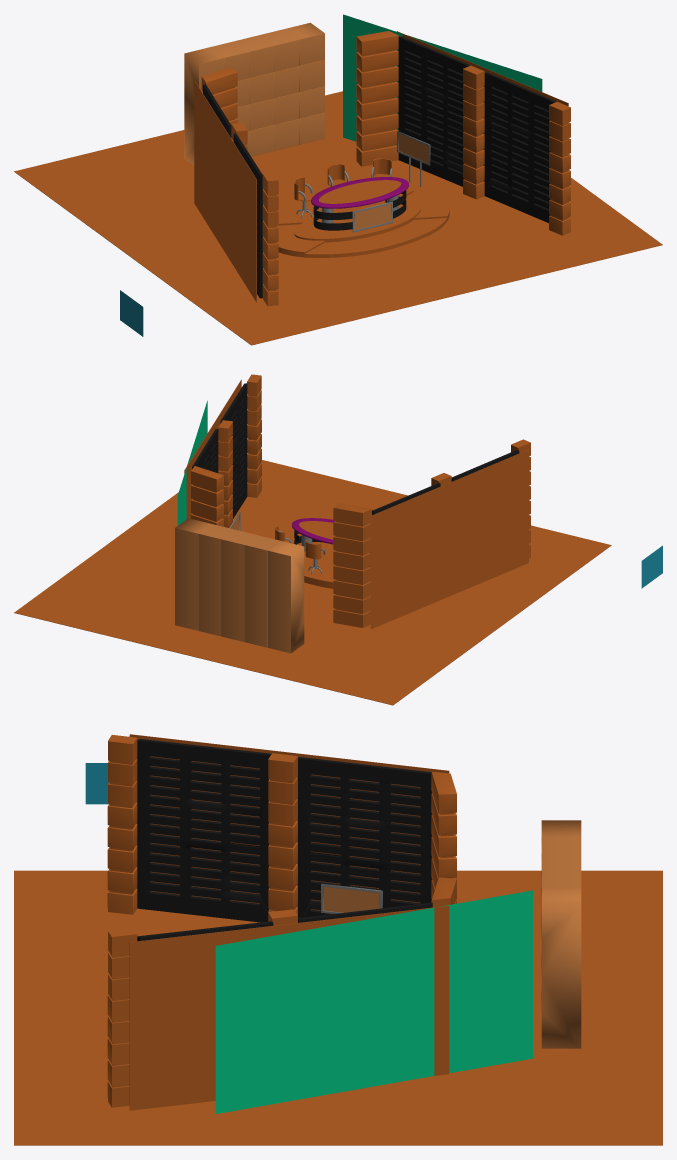
The picture shows the model from 3 angles, top to bottom: view 1: azimuth 30°, elevation 25°; view 2: azimuth 150°, elevation 25°; view 3: azimuth 270°, elevation 25°; orthographic projection. The views are drawn at different scales.
Visible parts, largest first — view 1: taslak1, 16, ayna1, tv, p1, 12_01, podyum1, podyum3, podyu2, Layer4, cam1, ah_ap2 (+5 smaller); view 2: taslak1, p1, tv, ayna1, 16, podyum1, 12_01, ah_ap2, GR_window; view 3: taslak1, 12_01, 16, p1, ayna1, tv, Layer4, ah_ap2, GR_window.
Boxes of the visible parts, box(x1,y1,x2,y2) form: taslak1: box(14, 91, 662, 345); 16: box(203, 36, 556, 298); ayna1: box(201, 31, 570, 306); tv: box(184, 22, 324, 165); p1: box(194, 31, 568, 302); 12_01: box(343, 14, 542, 145); podyum1: box(278, 189, 420, 242); podyum3: box(304, 218, 447, 257); podyu2: box(278, 192, 449, 257); Layer4: box(354, 134, 428, 230); cam1: box(319, 180, 401, 203); ah_ap2: box(212, 50, 569, 291); taslak1: box(14, 460, 611, 705); p1: box(184, 379, 528, 629); tv: box(175, 518, 304, 653); ayna1: box(191, 374, 530, 627); 16: box(192, 383, 519, 518); podyum1: box(292, 540, 370, 588); 12_01: box(177, 400, 207, 525); ah_ap2: box(193, 395, 529, 614); GR_window: box(641, 545, 662, 588); taslak1: box(14, 870, 662, 1145); 12_01: box(215, 890, 532, 1113); 16: box(137, 739, 432, 941); p1: box(129, 734, 449, 1110); ayna1: box(107, 735, 456, 1107); tv: box(541, 820, 581, 1048); Layer4: box(323, 886, 379, 912); ah_ap2: box(109, 760, 453, 1087); GR_window: box(85, 763, 108, 804).
Bounding box in the file's own units: 1468 × 356 × 1223.
